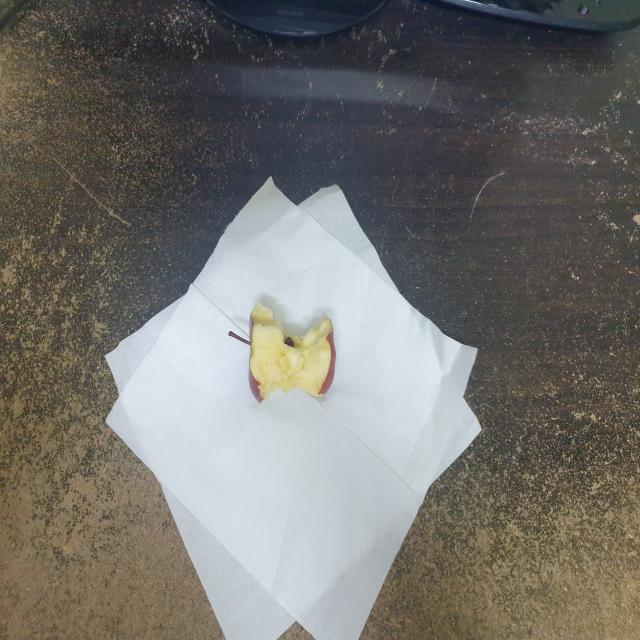apple: (210, 300, 356, 413)
